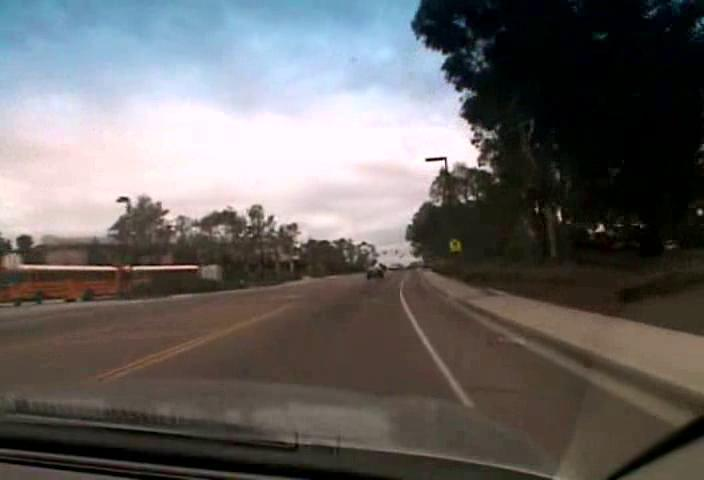school: (448, 238, 461, 249)
